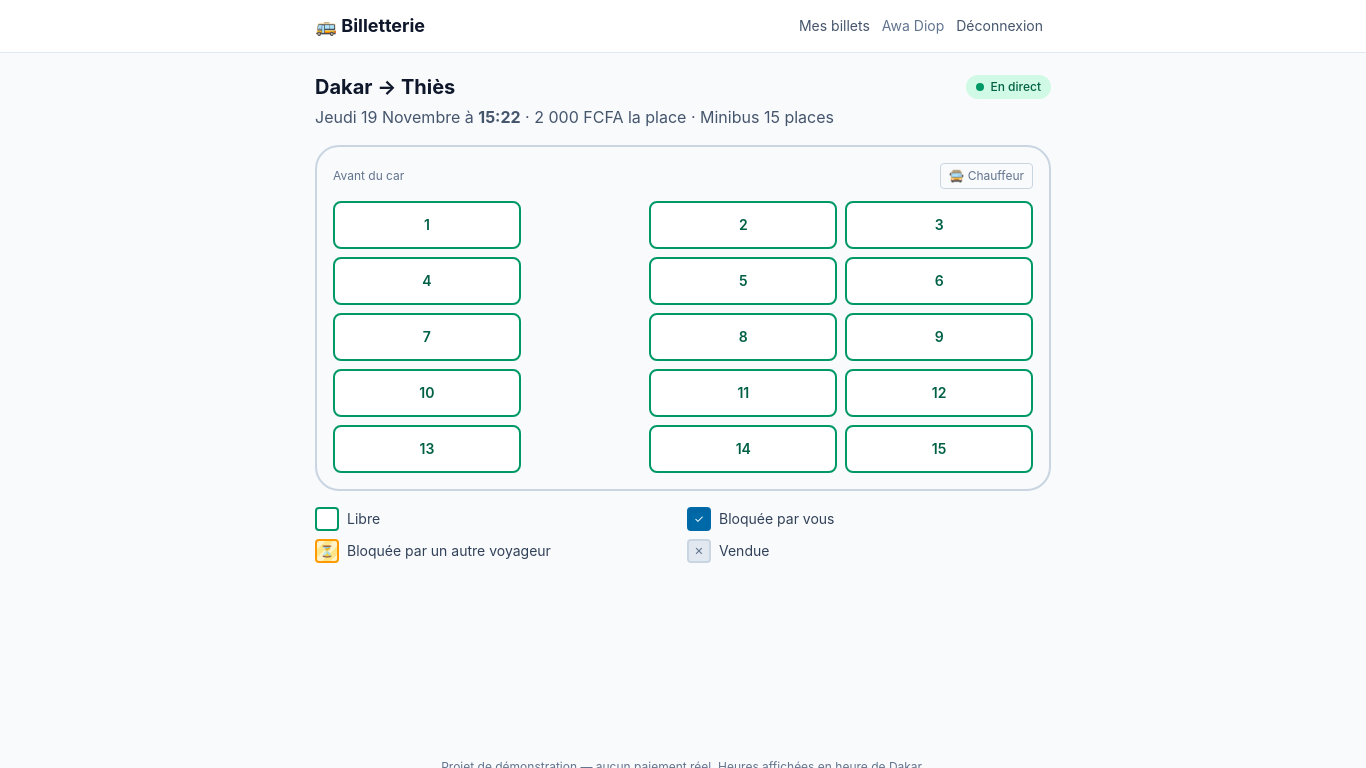
it: page du plan du car › clic sur une place libre : blocage, récapitulatif avec compte à rebours et total
The image size is (1366, 768).
Step 1. Click the button "7" → (427, 337), box left=333, top=313, right=521, bottom=361
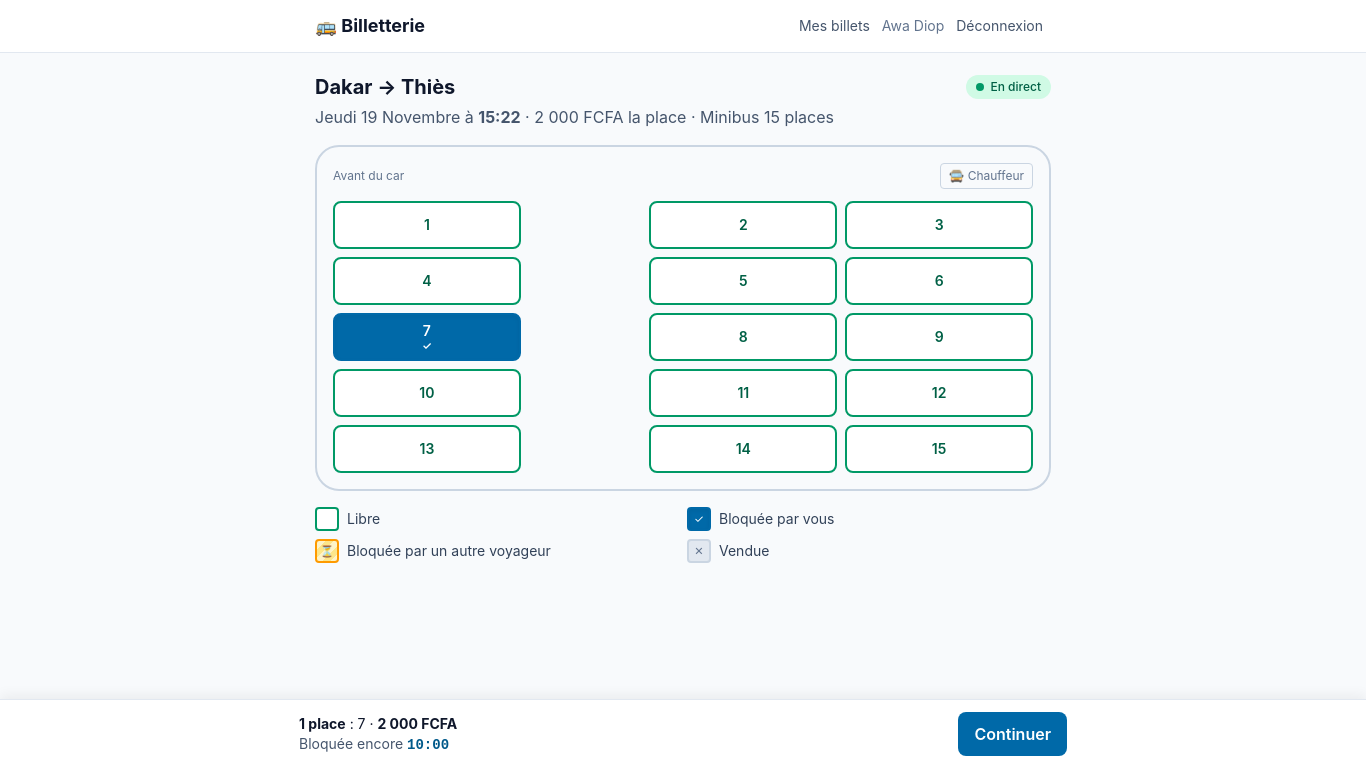
expect the element named "Récapitulatif" shows "1 place : 7 · 2 000 FCFA": met, box left=0, top=699, right=1365, bottom=767
expect the text "10:00" is shown: met, box left=407, top=736, right=449, bottom=752
